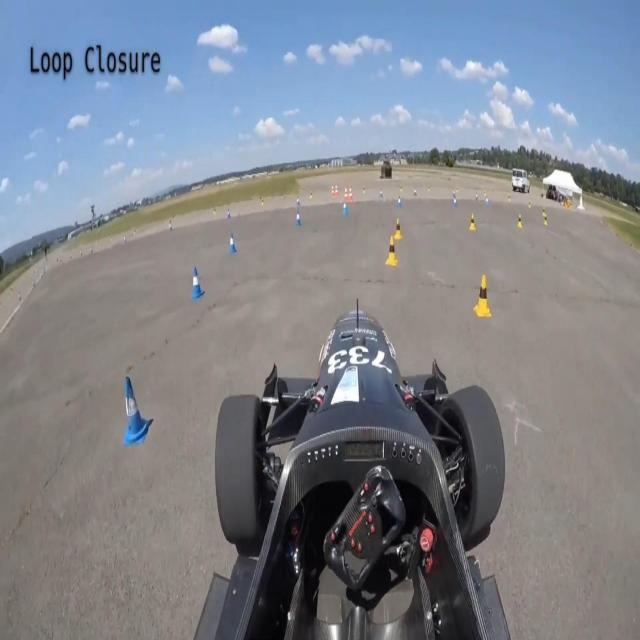blue_cone: (121, 374, 150, 446), (191, 266, 206, 300), (228, 232, 238, 255), (296, 212, 301, 227), (452, 197, 458, 209), (397, 196, 402, 210), (342, 202, 347, 215), (296, 195, 300, 206), (227, 208, 230, 219)
large_orange_cone: (343, 187, 348, 201), (349, 187, 353, 202), (335, 184, 339, 197), (331, 184, 334, 198)
yellow_cone: (473, 272, 492, 322), (386, 235, 398, 267), (393, 218, 402, 240), (468, 213, 476, 231), (517, 212, 523, 228), (543, 214, 548, 226), (542, 207, 546, 217)
